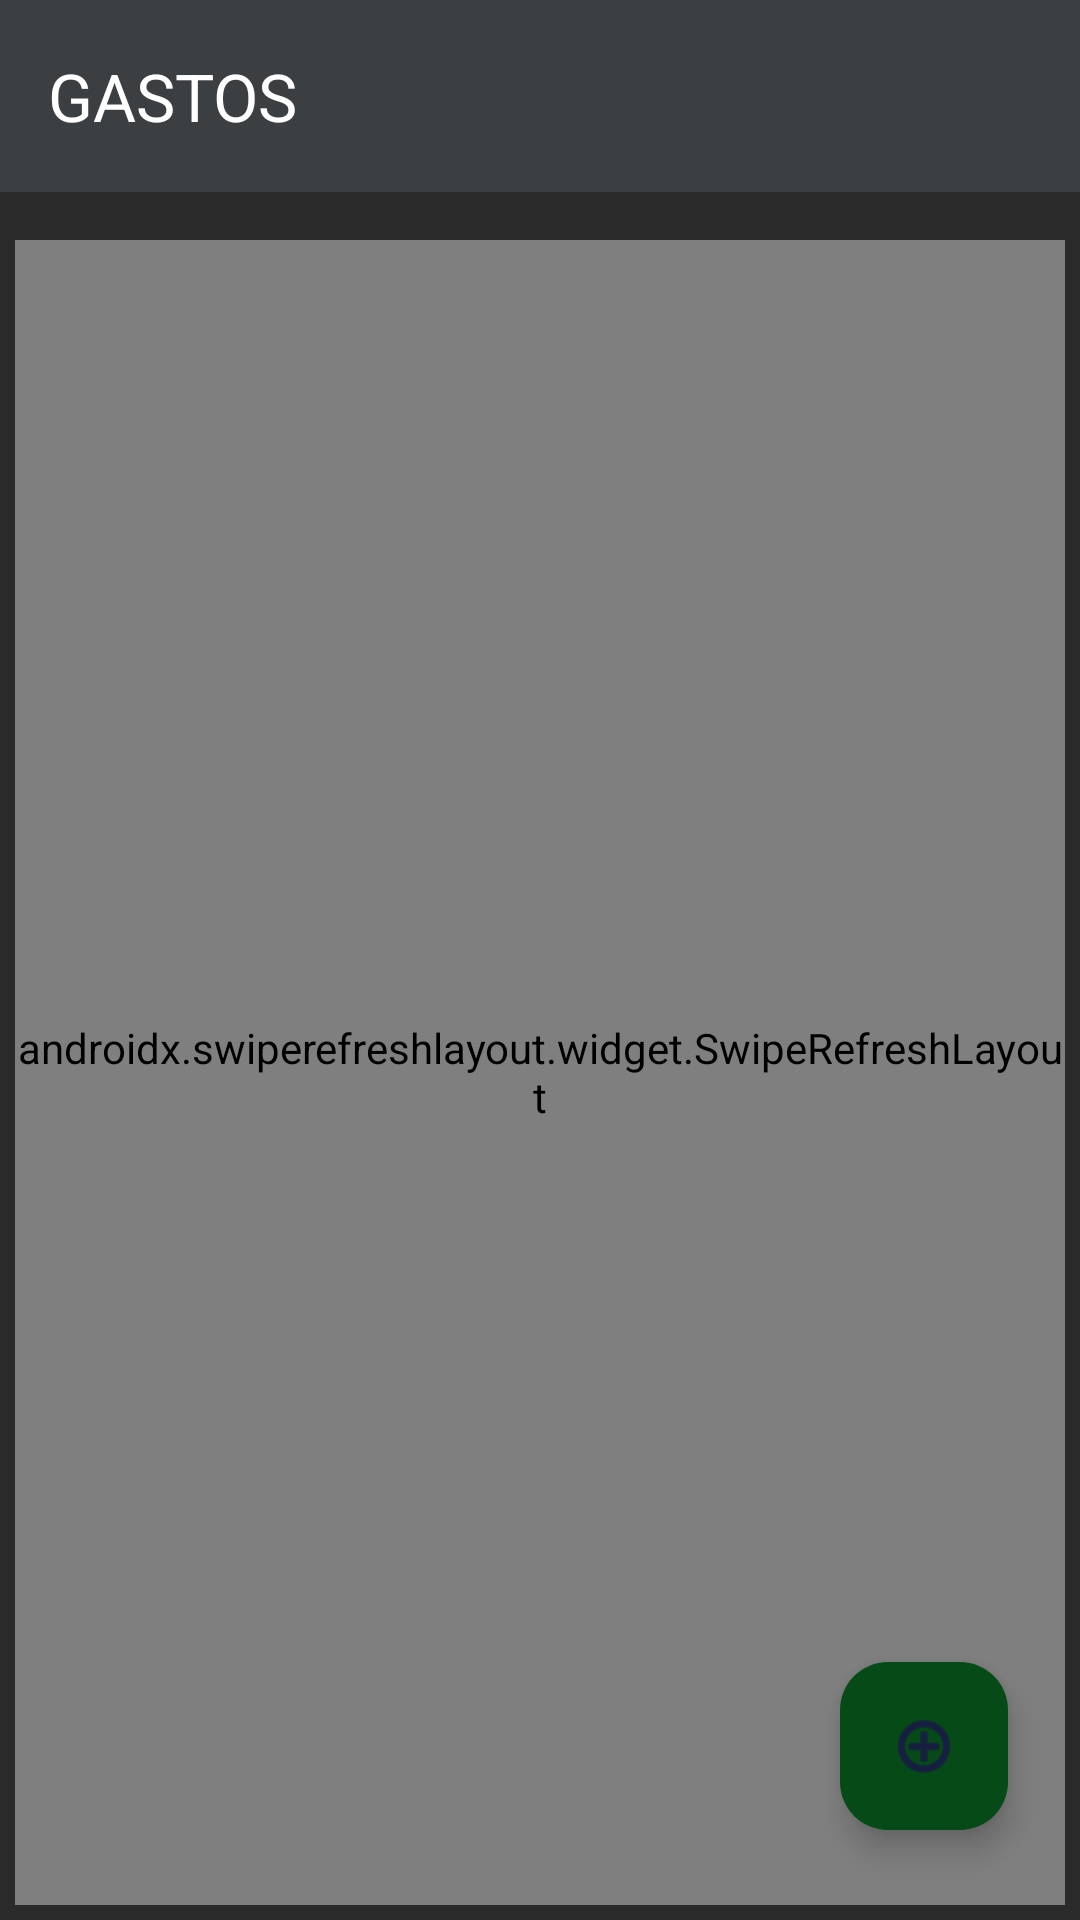

Where to tap for icons on this 1080*1920 app screen, as (x=x, y=y):
add: (x=924, y=1746)
